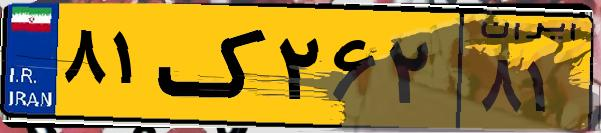1: (525, 38, 570, 115), (110, 28, 158, 98)
2: (270, 28, 330, 110), (385, 28, 445, 110)
6: (330, 28, 385, 110)
8: (57, 26, 110, 100), (475, 38, 525, 113)
ک: (158, 12, 270, 120)
